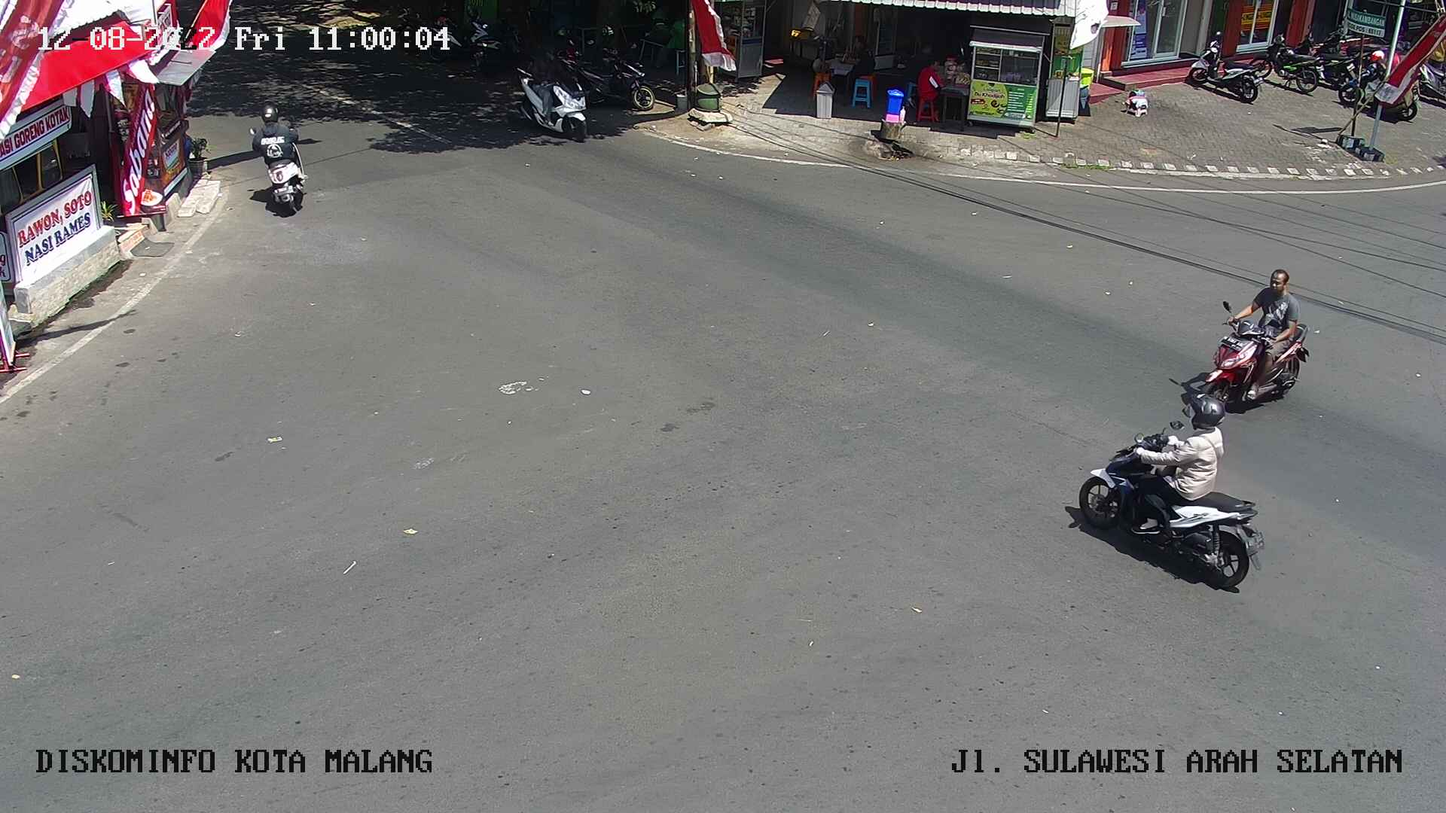with_helmet: (1059, 388, 1278, 634), (234, 91, 323, 221)
without_helmet: (1177, 239, 1314, 433)
